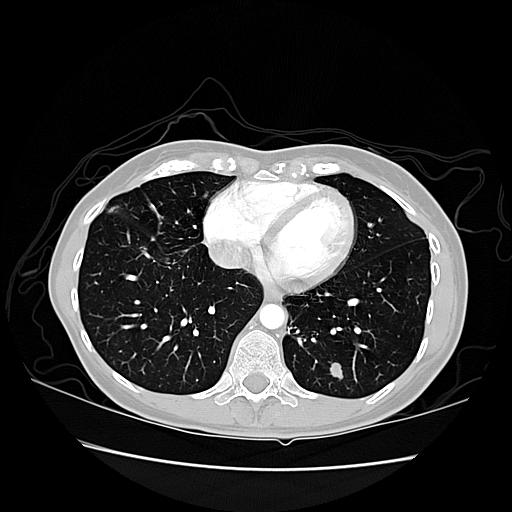nodule: (327, 361, 346, 380)
